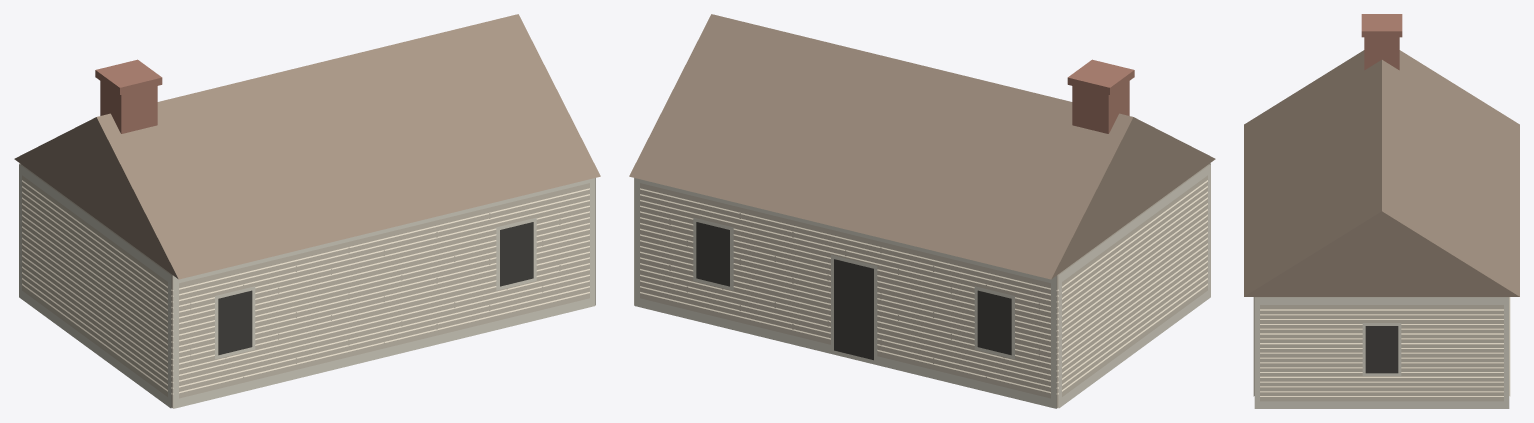
The model's file is recon_1835_west_033__inferred_1835.glb.
The picture shows the model from 3 angles, left to right: view 1: azimuth 30°, elevation 25°; view 2: azimuth 150°, elevation 25°; view 3: azimuth 270°, elevation 25°; orthographic projection. The views are drawn at different scales.
Parts seen in each view (by area): view 1: recon_1835_west_033__inferred_1835; view 2: recon_1835_west_033__inferred_1835; view 3: recon_1835_west_033__inferred_1835.
Boxes of the visible parts, x1,y1,x2,y2 form: recon_1835_west_033__inferred_1835: (14, 14, 600, 408); recon_1835_west_033__inferred_1835: (629, 14, 1215, 408); recon_1835_west_033__inferred_1835: (1244, 14, 1519, 408).
Size of the model in its own units: 9.83 by 5.98 by 6.6.
